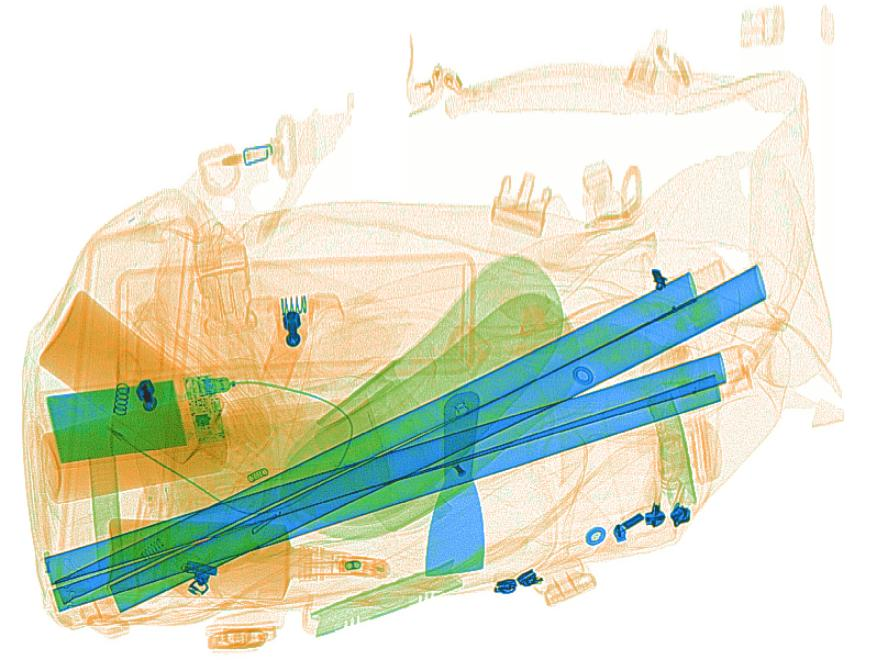plasticBottleWithaNozzle: (38, 287, 325, 495), (106, 512, 392, 602)
